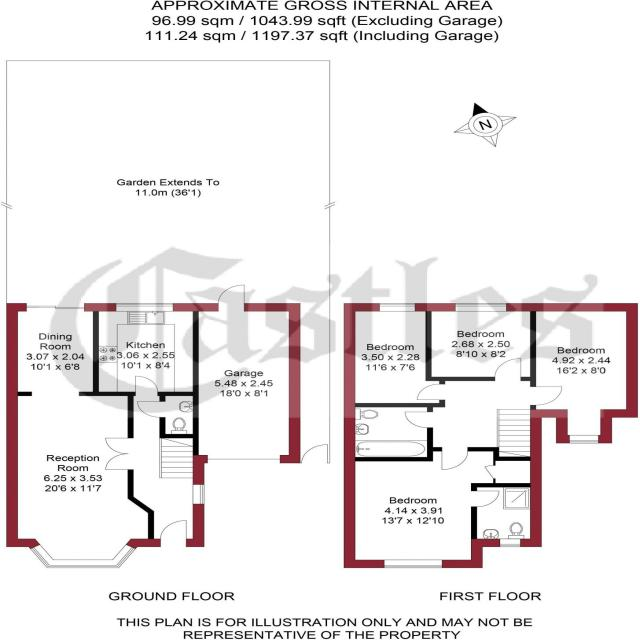DOOR: (158, 518, 190, 547), (216, 284, 246, 311), (530, 385, 565, 408), (492, 356, 523, 381), (440, 447, 472, 471), (402, 409, 433, 430), (471, 490, 502, 509), (136, 400, 166, 419), (134, 375, 160, 396), (415, 383, 445, 401)
ROOM: (9, 305, 157, 570), (344, 447, 543, 568), (531, 303, 639, 443), (344, 303, 446, 408), (93, 303, 199, 396), (426, 303, 536, 381)
WINDOW: (27, 541, 138, 569), (383, 558, 444, 569), (115, 302, 175, 312), (454, 301, 508, 312), (378, 302, 417, 312), (568, 434, 600, 444), (192, 483, 206, 505), (499, 538, 522, 548)
